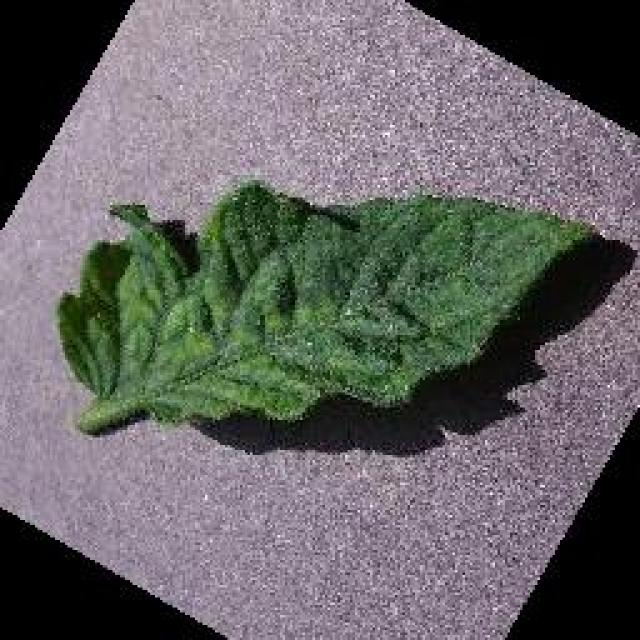Tomato___Tomato_mosaic_virus: (58, 182, 588, 428)
